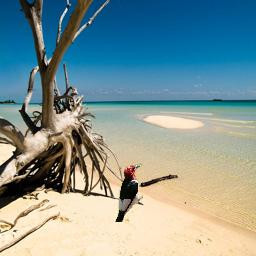Woodpecker: (114, 163, 143, 222)
